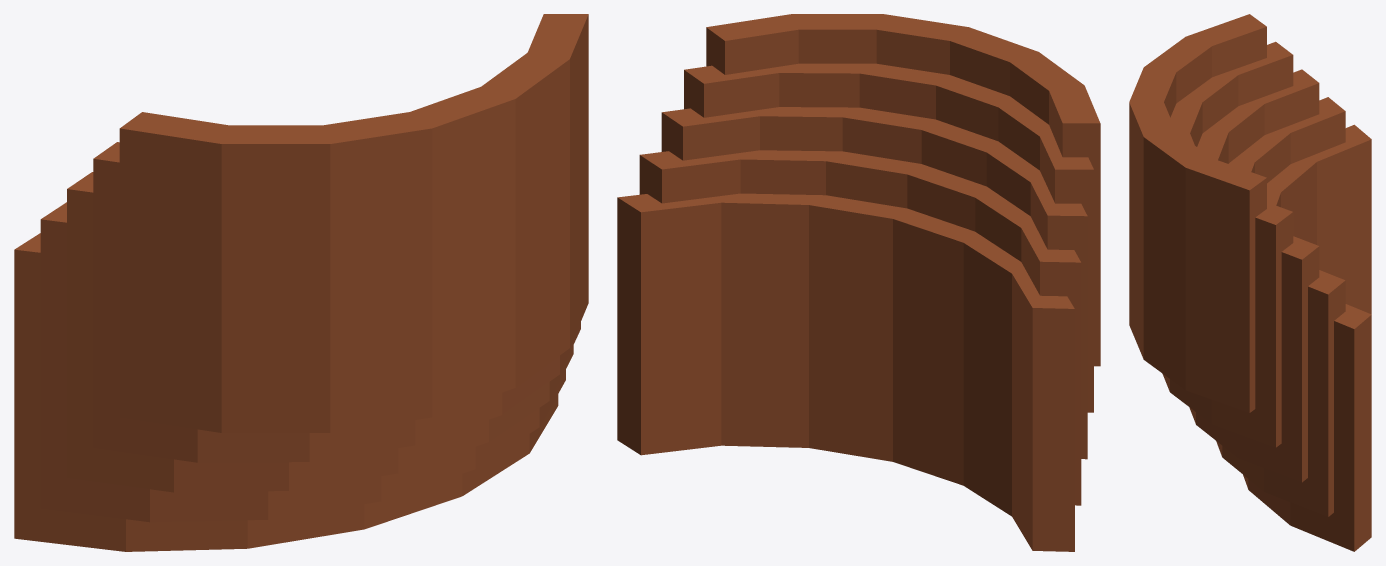
File: candle_altars_left.glb
The picture shows the model from 3 angles, left to right: view 1: azimuth 30°, elevation 25°; view 2: azimuth 150°, elevation 25°; view 3: azimuth 270°, elevation 25°; orthographic projection. The views are drawn at different scales.
Visible parts, largest first — view 1: CandleAltar-col.001; view 2: CandleAltar-col.001; view 3: CandleAltar-col.001.
Part boxes in pixels (x1,y1,x2,y2): CandleAltar-col.001: (14,14,588,551); CandleAltar-col.001: (617,14,1100,551); CandleAltar-col.001: (1129,14,1371,551).
Size of the model in its own units: 6.9 by 5.46 by 3.45.
